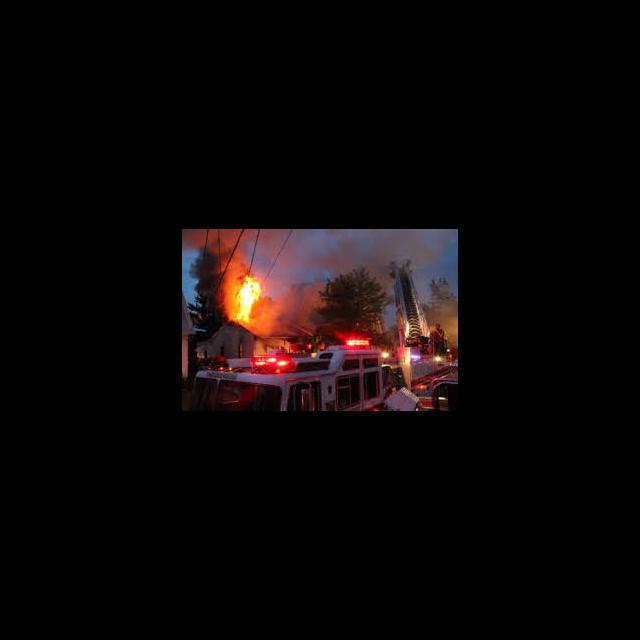Fire: (230, 274, 264, 326)
Smoke: (283, 230, 444, 276), (268, 278, 316, 328)
